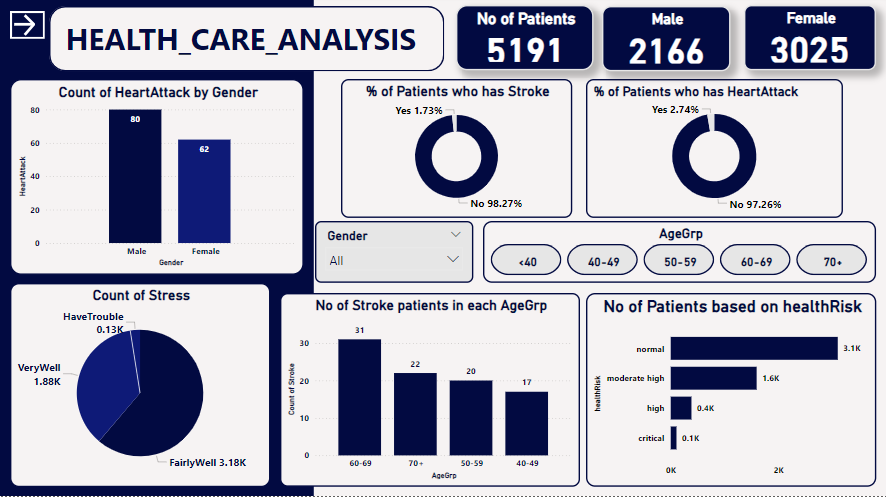

The dashboard page shown, as its layout file describes it:
{"tool":"powerbi","page":{"name":"Page 1","canvas":[1280,720],"ordinal":0},"visuals":[{"type":"shape","box":[0,0,451.9,720.6],"z":0},{"type":"shape","box":[451.9,0,828.1,720.6],"z":1000},{"type":"shape","box":[70.6,15.1,569.4,94.1],"z":2000},{"type":"textbox","box":[89,26.9,530.8,67.2],"z":3000},{"type":"card","title":"No of Patients","fields":{"Values":["CountNonNull(Table1.Gender)"]},"box":[656.8,13.4,198.2,94.1],"z":4000},{"type":"donutChart","title":"% of Patients who has  HeartAttack","fields":{"Category":["Table1.HeartAttack"],"Y":["Divide(CountNonNull(Table1.Column), ScopedEval(CountNonNull(Table1.Column), []))"]},"box":[843.3,119.3,369.6,199.9],"z":5000},{"type":"donutChart","title":"% of Patients who has Stroke ","fields":{"Category":["Table1.Stroke"],"Y":["CountNonNull(Table1.Stroke)"]},"box":[490.5,119.3,332.6,199.9],"z":6000},{"type":"clusteredBarChart","title":"No of Patients based on healthRisk ","fields":{"Category":["Table1.healthRisk"],"Y":["CountNonNull(Table1.healthRisk)"]},"box":[843.3,428.3,418.3,278.8],"z":7000},{"type":"card","title":"Male","fields":{"Values":["CountNonNull(Table1.Gender)"]},"box":[866.8,15.1,184.8,94.1],"z":8000},{"type":"card","title":"Female","fields":{"Values":["CountNonNull(Table1.Gender)"]},"box":[1071.7,13.4,189.8,94.1],"z":9000},{"type":"columnChart","title":"Count of HeartAttack by Gender","fields":{"Y":["CountNonNull(Table1.heartattack count)"],"Series":["Table1.Gender"],"Category":["Table1.Gender"]},"box":[15.1,119.3,423.3,282.2],"z":10000},{"type":"slicer","fields":{"Values":["Table1.Gender"]},"box":[453.5,324.2,228.5,89],"z":11000},{"type":"pieChart","title":"Count of Stress ","fields":{"Category":["Table1.Stress"],"Y":["CountNonNull(Table1.Stress)"]},"box":[15.1,413.2,374.6,294],"z":12000},{"type":"clusteredColumnChart","title":"No of Stroke patients in each AgeGrp ","fields":{"Category":["Table1.AgeGrp"],"Y":["CountNonNull(Table1.Stroke)"],"Series":["Table1.Stroke"]},"box":[403.1,428.3,431.7,278.8],"z":12001},{"type":"advancedSlicerVisual","fields":{"Values":["Table1.AgeGrp"]},"box":[695.4,324.2,566.1,89],"z":12002},{"type":"actionButton","box":[15.1,21.8,50.4,40.3],"z":12003}]}

Visuals, with their boxes in screenshot pixels (x1, y1, x2, y2), scaled from the page's 1280x720 canvas onto the 886x497 screenshot:
shape: 0 0 313 496
shape: 313 0 885 496
shape: 49 10 443 75
textbox: 62 19 429 65
"No of Patients" card: 455 9 592 74
"% of Patients who has  HeartAttack" donutChart: 584 82 840 220
"% of Patients who has Stroke " donutChart: 340 82 570 220
"No of Patients based on healthRisk " clusteredBarChart: 584 296 873 488
"Male" card: 600 10 728 75
"Female" card: 742 9 873 74
"Count of HeartAttack by Gender" columnChart: 10 82 303 277
slicer - Table1.Gender: 314 224 472 285
"Count of Stress " pieChart: 10 285 270 488
"No of Stroke patients in each AgeGrp " clusteredColumnChart: 279 296 578 488
advancedSlicerVisual - Table1.AgeGrp: 481 224 873 285
actionButton: 10 15 45 43
